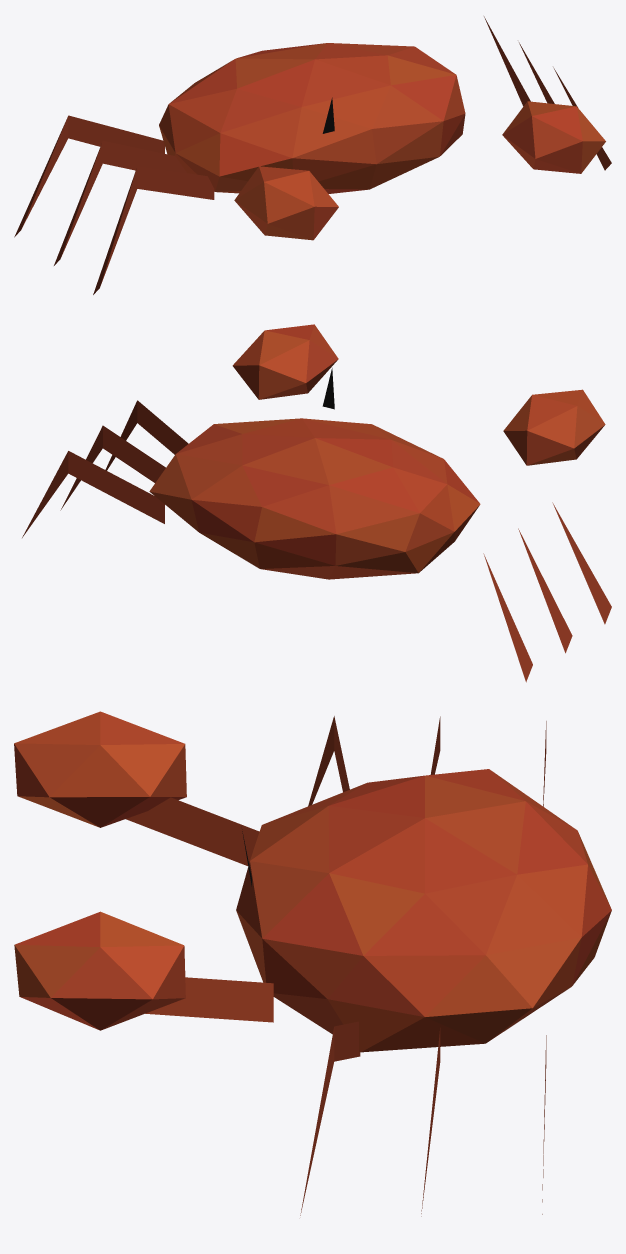
File: crab.glb
3 views of the same model, one above another, from view 1: azimuth 30°, elevation 25°; view 2: azimuth 150°, elevation 25°; view 3: azimuth 270°, elevation 25° (orthographic). The views are drawn at different scales.
Parts seen in each view (by area): view 1: crab_solid; view 2: crab_solid; view 3: crab_solid.
Part boxes in pixels (<box>): crab_solid: <box>14,16,611,294</box>; crab_solid: <box>22,324,611,682</box>; crab_solid: <box>14,711,611,1216</box>.
Size of the model in its own units: 0.42 by 0.13 by 0.2763.
